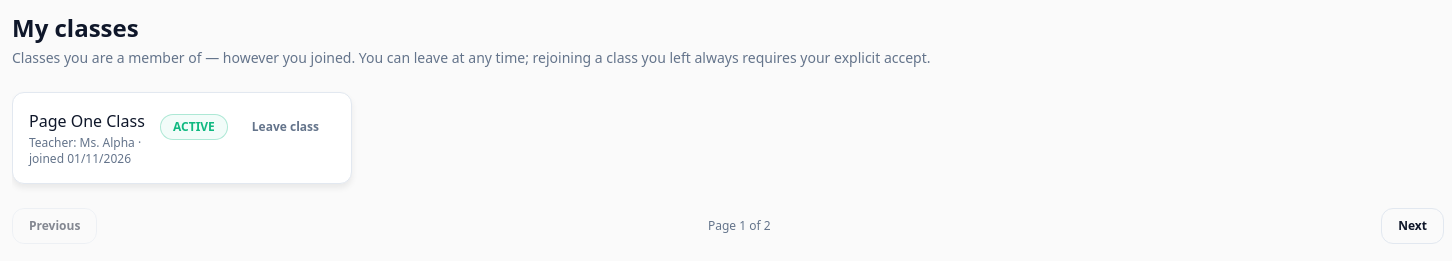
MyClassesPage (CLASS-M1) › navigates pages of joined classes
This screenshot has width=1452, height=261.
Expected: the link "Page One Class" is shown, 29,110 -> 145,132
Click the button "Next" at (1413, 226), box 1381,208 -> 1444,244
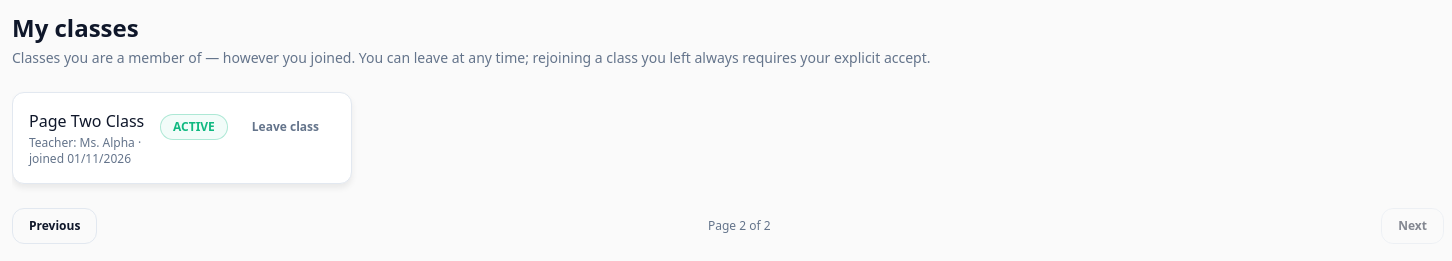
Result: the link "Page Two Class" is shown at 29,110 -> 144,132
Result: the text "Page 2 of 2" is shown at 708,218 -> 771,234
Result: the button "Previous" is enabled at 12,208 -> 97,244
